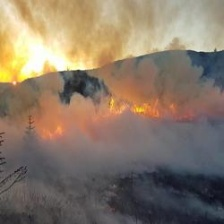fire: (1, 41, 171, 116)
smoke: (8, 119, 224, 223), (27, 1, 224, 61)
